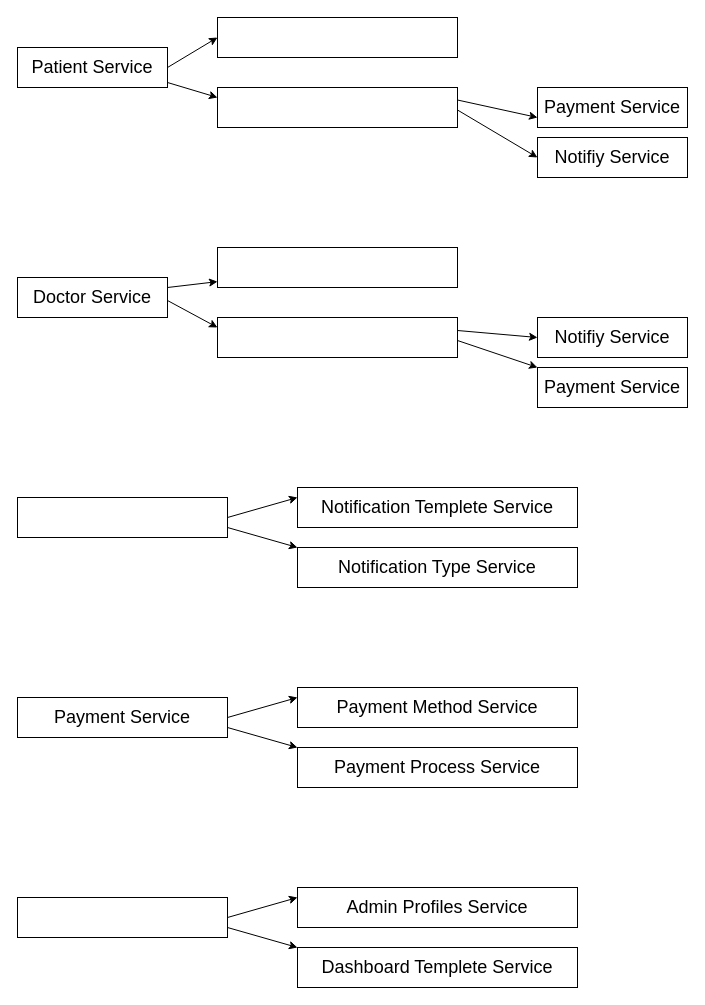
Image size: 705x1005. Some labels were removed from this diagram. Here are the shapes that lost their labels. From the top down, the box of each, then its label:
(216, 16, 458, 58): Patient Profiles Service
(216, 86, 458, 128): Appointment Booking Service
(216, 246, 458, 288): Doctor Profiles Service
(216, 316, 458, 358): Appointment Record Service
(16, 496, 228, 538): Notification Service
(16, 896, 228, 938): Admin Service
